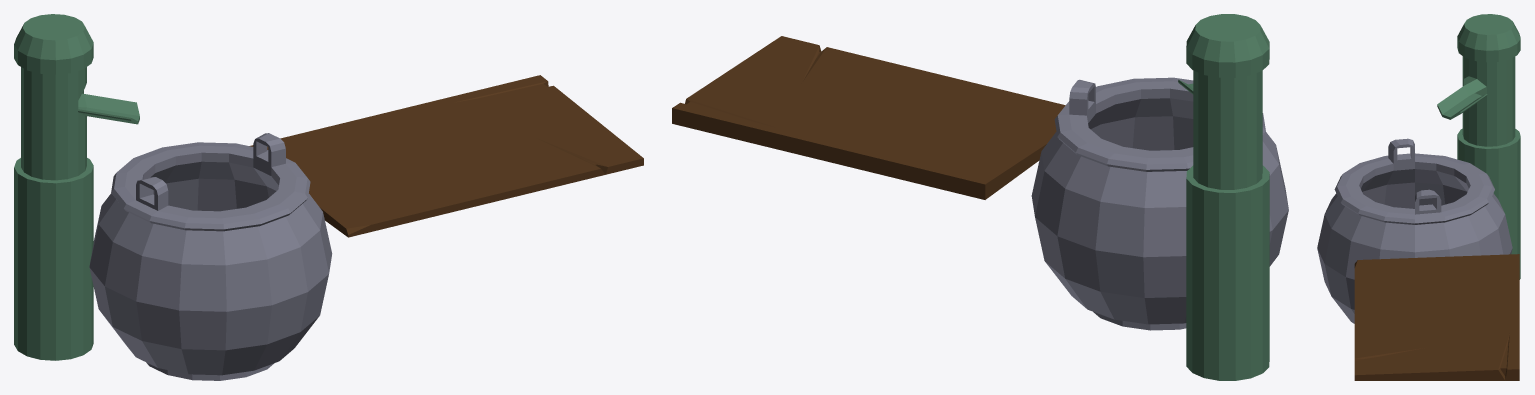
File: Crafting.fbx
3 renders of one model, left to right at view 1: azimuth 30°, elevation 25°; view 2: azimuth 150°, elevation 25°; view 3: azimuth 270°, elevation 25°, orthographic. The views are drawn at different scales.
Parts seen in each view (by area): view 1: Sphere, Cube, Cylinder; view 2: Cube, Sphere, Cylinder; view 3: Cube, Sphere, Cylinder.
Boxes of the visible parts, box(x1,y1,x2,y2) form: Sphere: box(89, 133, 332, 380); Cube: box(249, 75, 643, 237); Cylinder: box(14, 14, 139, 360); Cube: box(672, 36, 1065, 199); Sphere: box(1031, 77, 1288, 330); Cylinder: box(1178, 14, 1269, 380); Cube: box(1354, 254, 1519, 380); Sphere: box(1317, 138, 1512, 323); Cylinder: box(1437, 14, 1520, 279).
Size of the model in its own units: 509 by 285 by 208.
